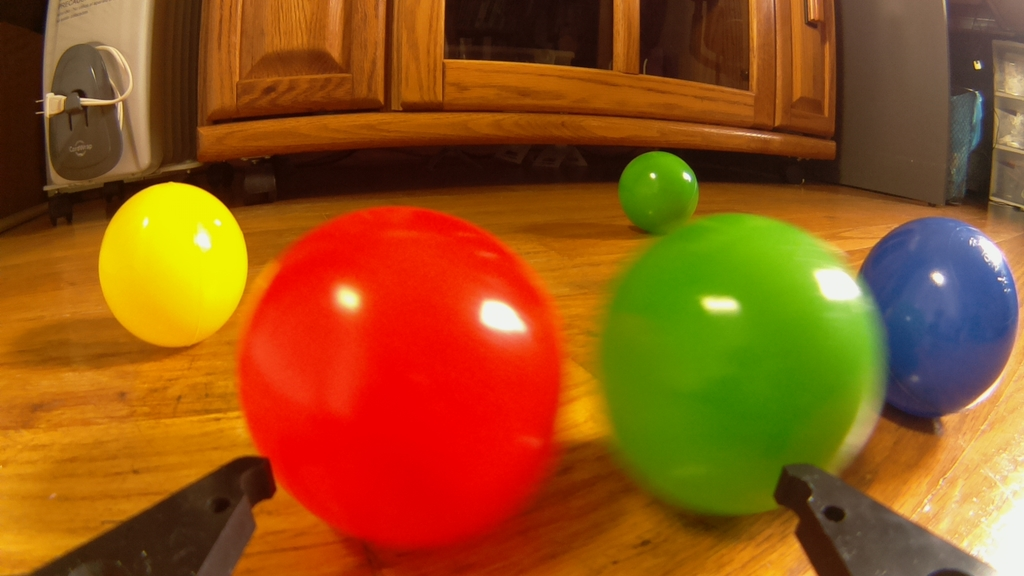ball: (232, 201, 580, 554)
